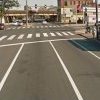crosswalk: (0, 30, 74, 42), (6, 24, 60, 30)
